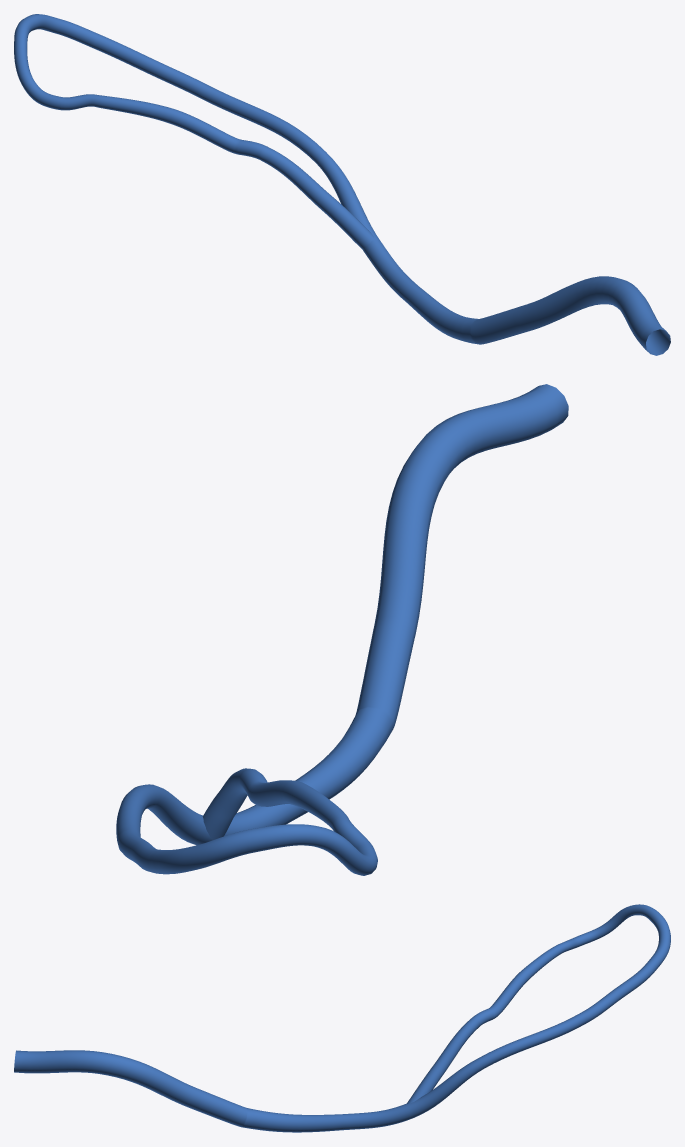
The picture shows the model from 3 angles, top to bottom: view 1: azimuth 30°, elevation 25°; view 2: azimuth 150°, elevation 25°; view 3: azimuth 270°, elevation 25°; orthographic projection. The views are drawn at different scales.
Visible parts, largest first — view 1: 肠系膜上静脉; view 2: 肠系膜上静脉; view 3: 肠系膜上静脉.
Boxes of the visible parts, x1,y1,x2,y2 form: 肠系膜上静脉: [14, 14, 670, 355]; 肠系膜上静脉: [116, 384, 568, 875]; 肠系膜上静脉: [14, 904, 670, 1132].
Size of the model in its own units: 0.0954 by 0.0605 by 0.2399.
